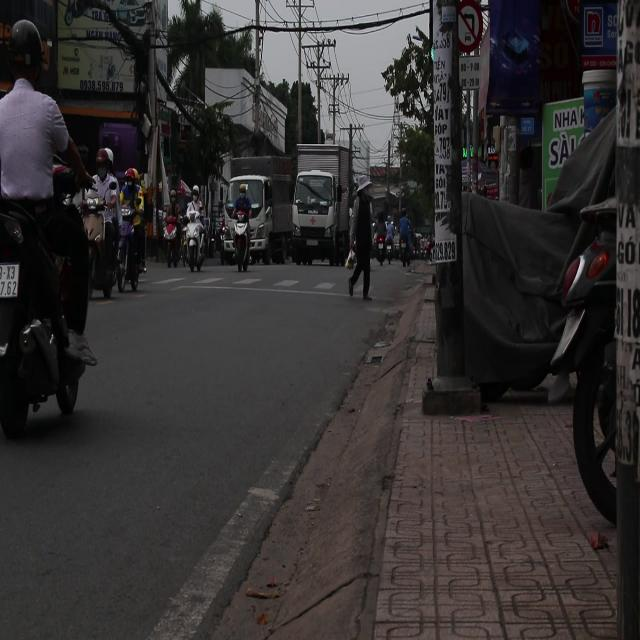motorbike: (0, 178, 94, 437), (94, 188, 148, 299), (221, 204, 253, 270), (182, 218, 207, 274), (162, 217, 182, 270)
truck: (225, 154, 295, 266), (292, 147, 350, 267)
